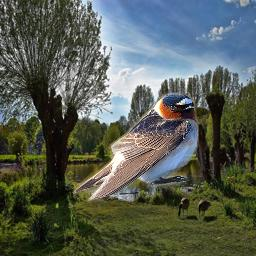Swallow: (73, 92, 199, 204)
